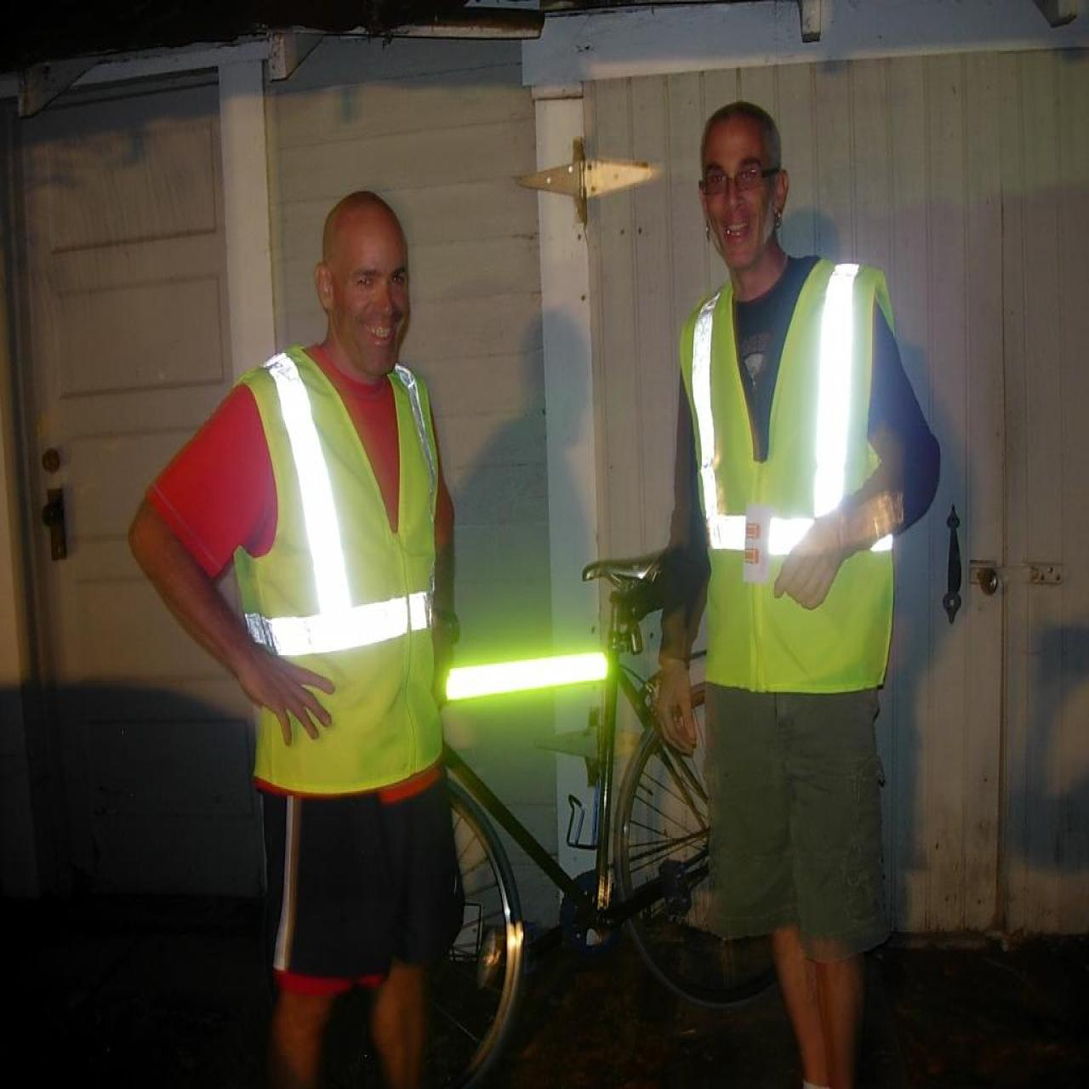Person: (584, 35, 954, 1089), (119, 149, 501, 1088)
Safety_Vest: (225, 342, 463, 802), (676, 271, 906, 696)
